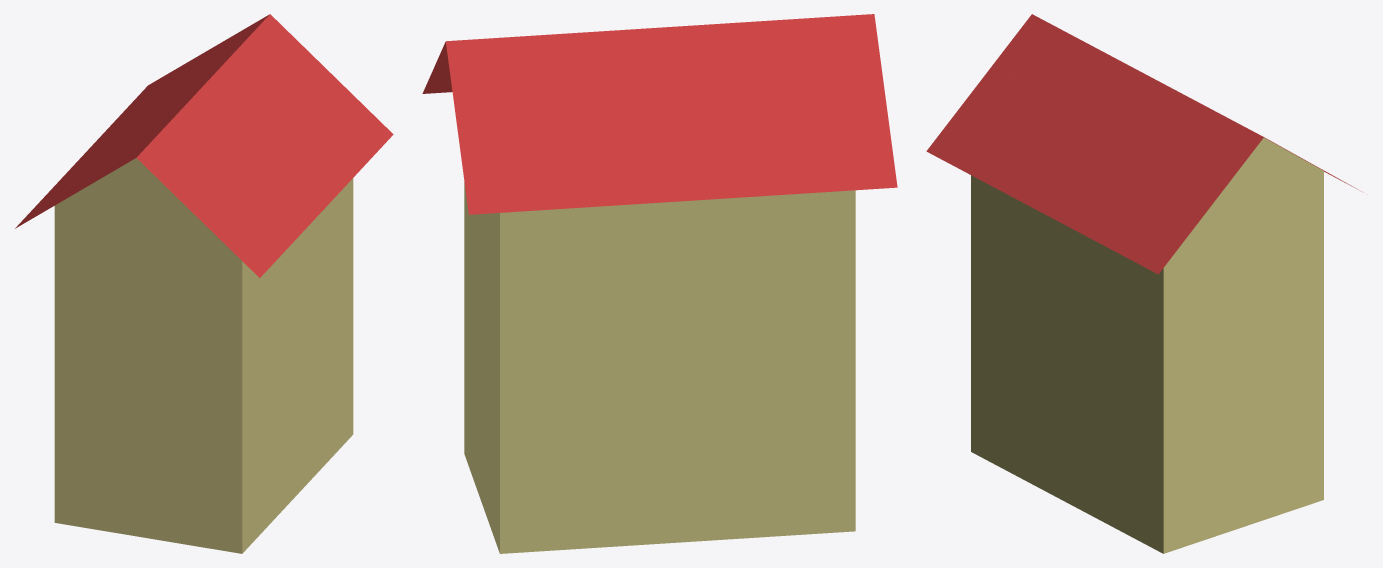
3 renders of one model, left to right at view 1: azimuth 30°, elevation 25°; view 2: azimuth 150°, elevation 25°; view 3: azimuth 270°, elevation 25°, orthographic. The views are drawn at different scales.
Bounding box in the file's own units: 10.84 × 10.45 × 10.43.
